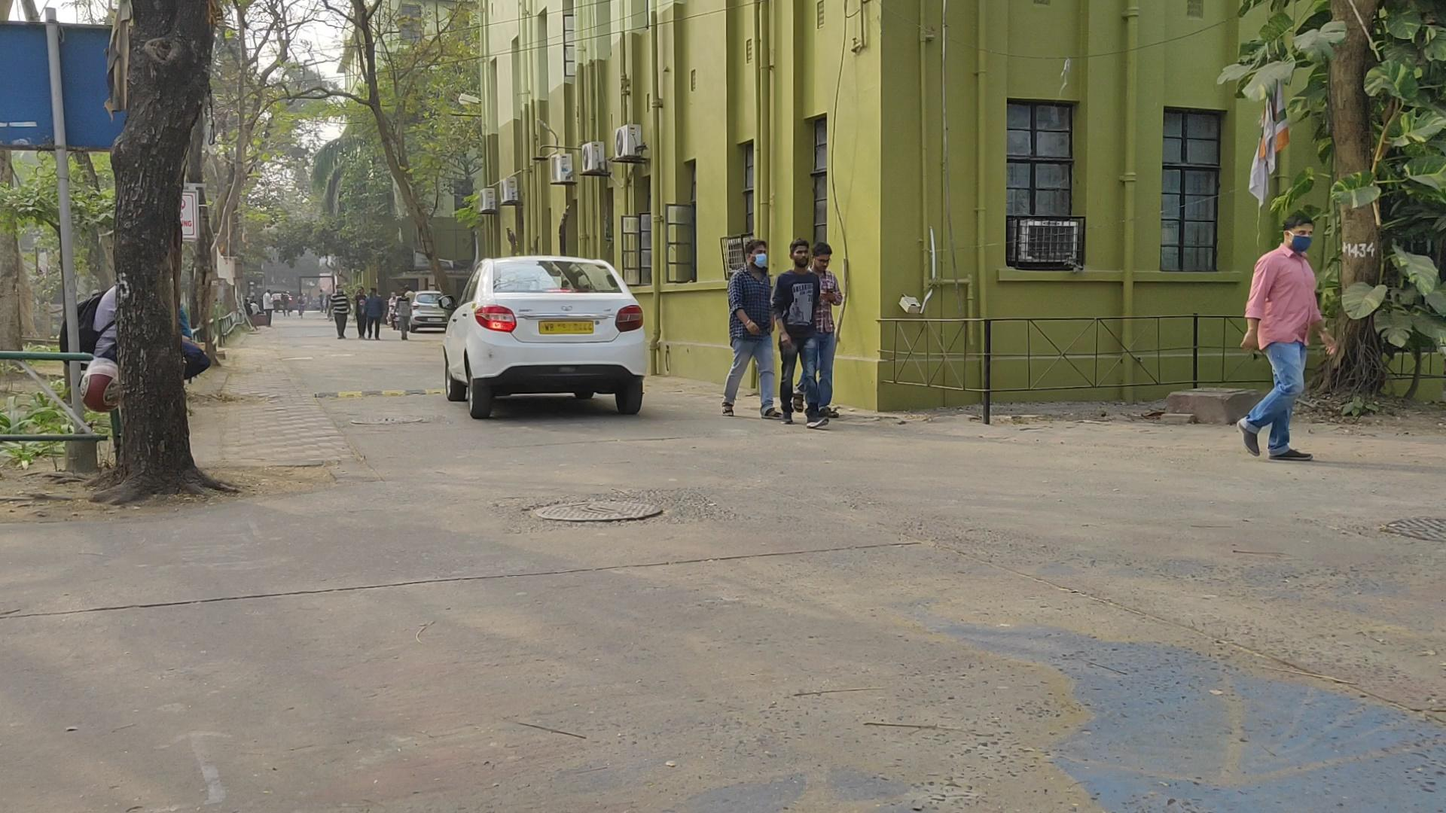car: (443, 253, 645, 422), (407, 290, 450, 333)
